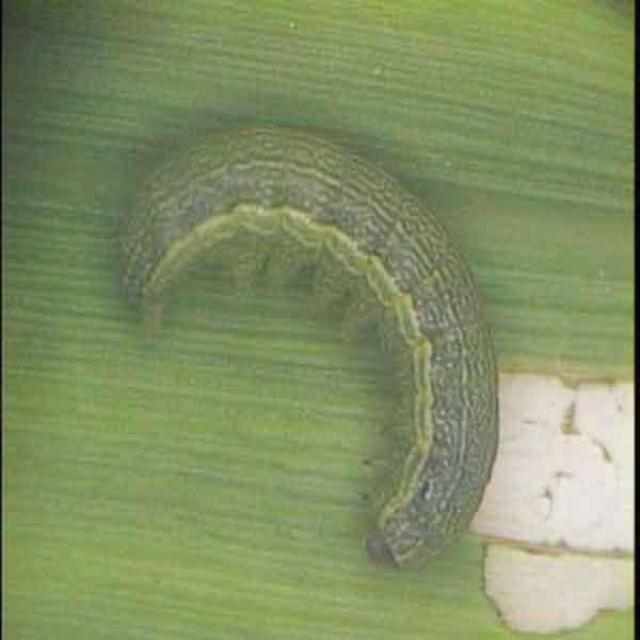BeetArmyWorm-Larva-: (105, 109, 510, 579)
